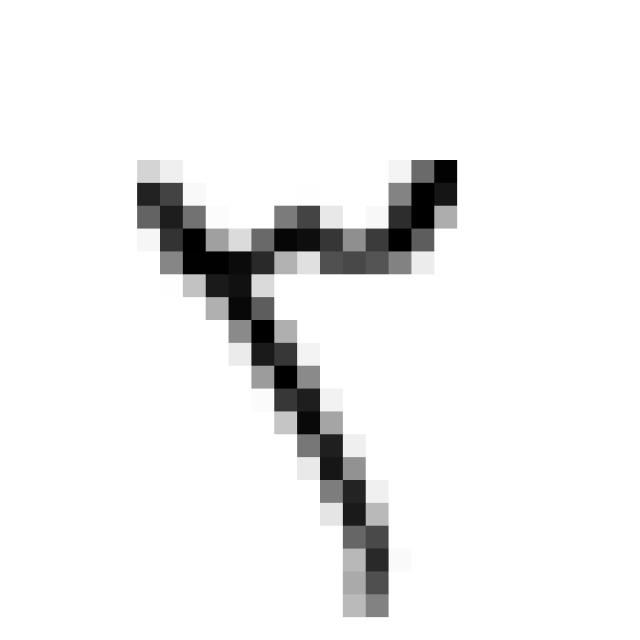3 -three-: (112, 140, 485, 630)
